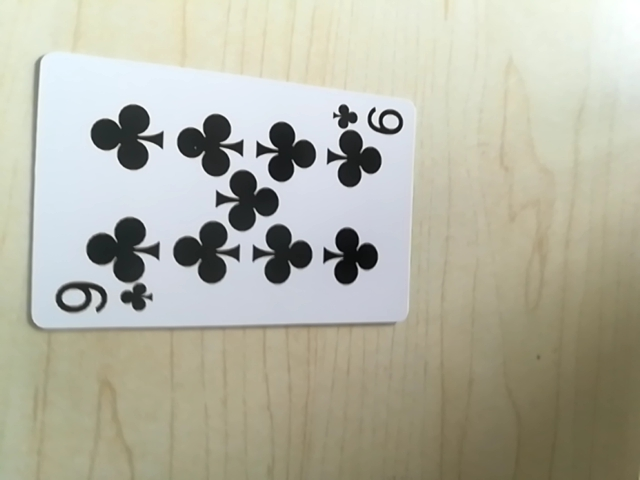mh 9: (50, 281, 156, 326), (328, 99, 407, 131)
